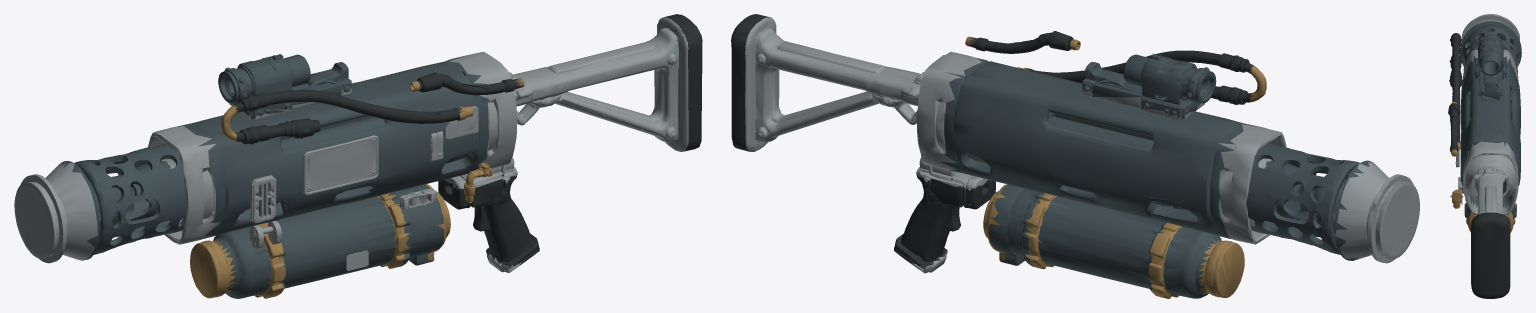
Rendered from standard.glb.
The picture shows the model from 3 angles, left to right: view 1: azimuth 30°, elevation 25°; view 2: azimuth 150°, elevation 25°; view 3: azimuth 270°, elevation 25°; orthographic projection. The views are drawn at different scales.
Visible parts, largest first — view 1: Assembly_01_Core, Assembly_06_LowerService, Assembly_08_BraceSkeletal, Assembly_03_ShroudStandard, Assembly_11_Grip, Assembly_12_Observation, Assembly_15_HoseLower, Assembly_13_FrontCap, Assembly_18_IDPlate, Assembly_14_HoseUpper, Assembly_26_VentGuard, Assembly_27_RepairPlate (+3 smaller); view 2: Assembly_01_Core, Assembly_06_LowerService, Assembly_08_BraceSkeletal, Assembly_03_ShroudStandard, Assembly_12_Observation, Assembly_11_Grip, Assembly_13_FrontCap, Assembly_15_HoseLower, Assembly_14_HoseUpper; view 3: Assembly_01_Core, Assembly_08_BraceSkeletal, Assembly_12_Observation, Assembly_03_ShroudStandard, Assembly_15_HoseLower, Assembly_13_FrontCap, Assembly_14_HoseUpper, Assembly_06_LowerService, Assembly_16_FittingElbow, Assembly_20_BandClamp.
Boxes of the visible parts, left/top/right/bottom form: Assembly_01_Core: left=148, top=51, right=517, bottom=244; Assembly_06_LowerService: left=190, top=184, right=450, bottom=298; Assembly_08_BraceSkeletal: left=509, top=14, right=702, bottom=151; Assembly_03_ShroudStandard: left=45, top=143, right=187, bottom=260; Assembly_11_Grip: left=438, top=157, right=539, bottom=272; Assembly_12_Observation: left=218, top=54, right=351, bottom=120; Assembly_15_HoseLower: left=221, top=89, right=473, bottom=144; Assembly_13_FrontCap: left=14, top=174, right=67, bottom=263; Assembly_18_IDPlate: left=303, top=135, right=378, bottom=195; Assembly_14_HoseUpper: left=409, top=72, right=524, bottom=95; Assembly_26_VentGuard: left=250, top=175, right=276, bottom=223; Assembly_27_RepairPlate: left=444, top=106, right=478, bottom=139; Assembly_01_Core: left=917, top=52, right=1286, bottom=244; Assembly_06_LowerService: left=983, top=184, right=1244, bottom=298; Assembly_08_BraceSkeletal: left=731, top=14, right=924, bottom=151; Assembly_03_ShroudStandard: left=1246, top=143, right=1388, bottom=260; Assembly_12_Observation: left=1082, top=54, right=1216, bottom=120; Assembly_11_Grip: left=894, top=157, right=995, bottom=273; Assembly_13_FrontCap: left=1366, top=174, right=1419, bottom=263; Assembly_15_HoseLower: left=1017, top=50, right=1266, bottom=104; Assembly_14_HoseUpper: left=965, top=31, right=1080, bottom=53; Assembly_01_Core: left=1460, top=49, right=1520, bottom=215; Assembly_08_BraceSkeletal: left=1471, top=166, right=1510, bottom=298; Assembly_12_Observation: left=1474, top=34, right=1507, bottom=100; Assembly_03_ShroudStandard: left=1459, top=21, right=1521, bottom=76; Assembly_15_HoseLower: left=1449, top=33, right=1462, bottom=150; Assembly_13_FrontCap: left=1461, top=14, right=1519, bottom=41; Assembly_14_HoseUpper: left=1448, top=101, right=1460, bottom=156; Assembly_06_LowerService: left=1464, top=199, right=1516, bottom=232; Assembly_16_FittingElbow: left=1450, top=189, right=1463, bottom=208; Assembly_20_BandClamp: left=1458, top=177, right=1463, bottom=193.
Size of the model in its own units: 0.9574 by 0.3698 by 0.1434.
